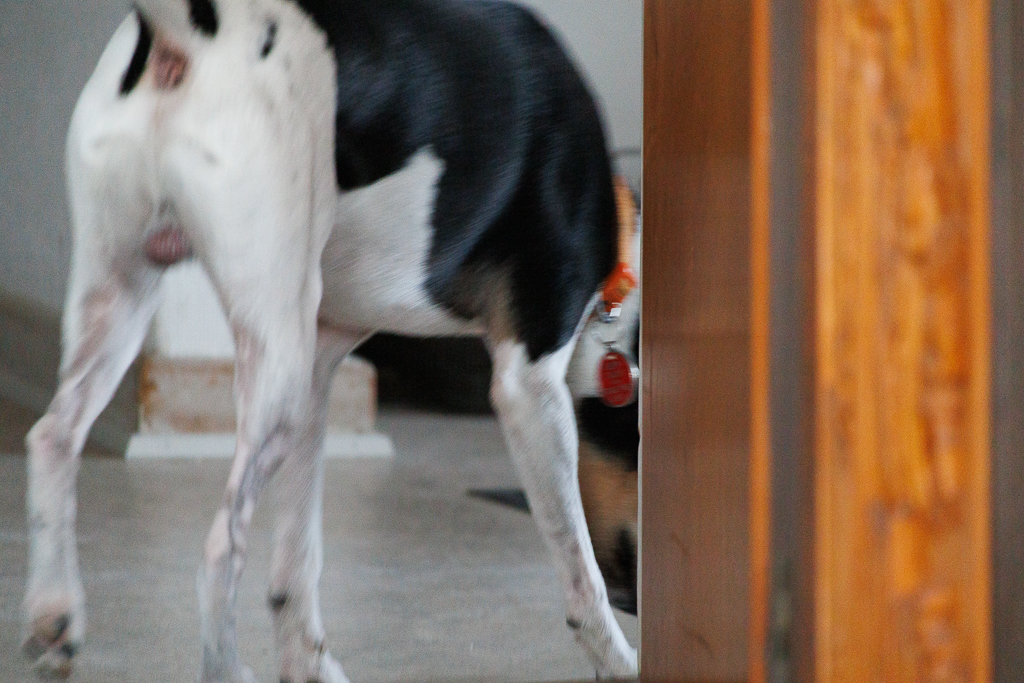Dog: (9, 0, 644, 683)
